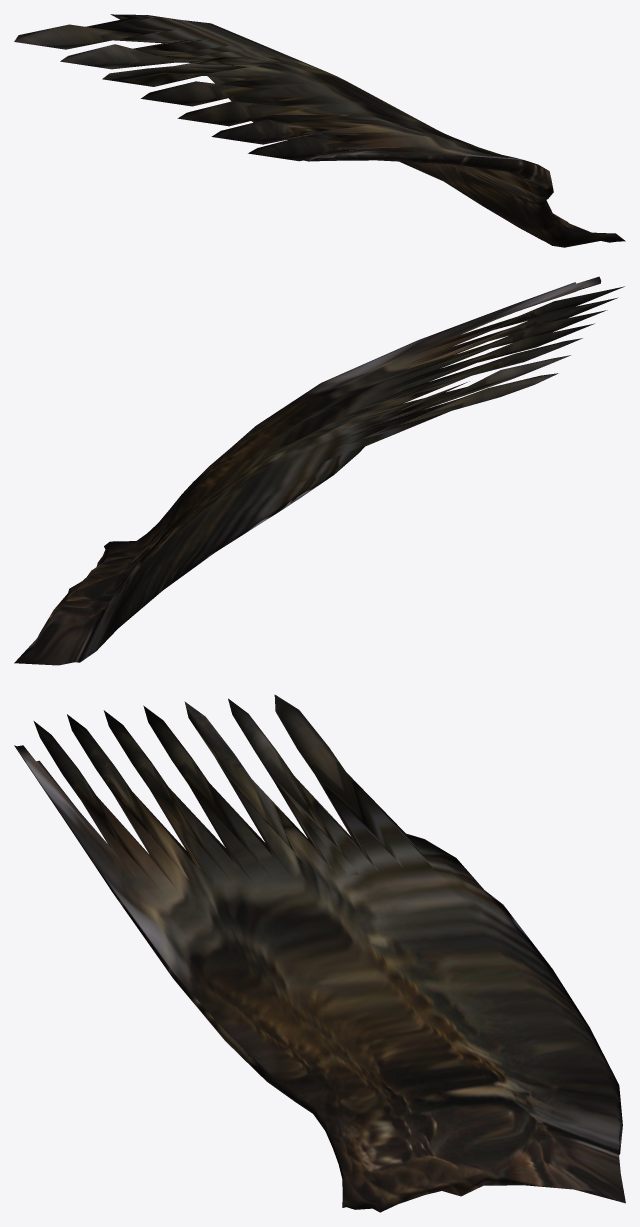
The model's file is Derecha.obj.
3 renders of one model, top to bottom at view 1: azimuth 30°, elevation 25°; view 2: azimuth 150°, elevation 25°; view 3: azimuth 270°, elevation 25°, orthographic. The views are drawn at different scales.
Parts seen in each view (by area): view 1: Flugel.001_Plane.001; view 2: Flugel.001_Plane.001; view 3: Flugel.001_Plane.001.
Boxes of the visible parts, left/top/right/bottom form: Flugel.001_Plane.001: left=14, top=14, right=625, bottom=247; Flugel.001_Plane.001: left=14, top=276, right=624, bottom=665; Flugel.001_Plane.001: left=14, top=694, right=625, bottom=1212.
Size of the model in its own units: 4.49 by 2.73 by 5.03.
Materials: 1 (1 with a texture image).
